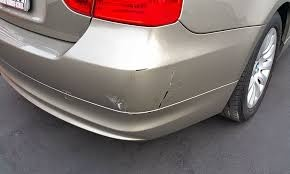Scratch: (157, 72, 177, 108), (105, 95, 129, 113)
